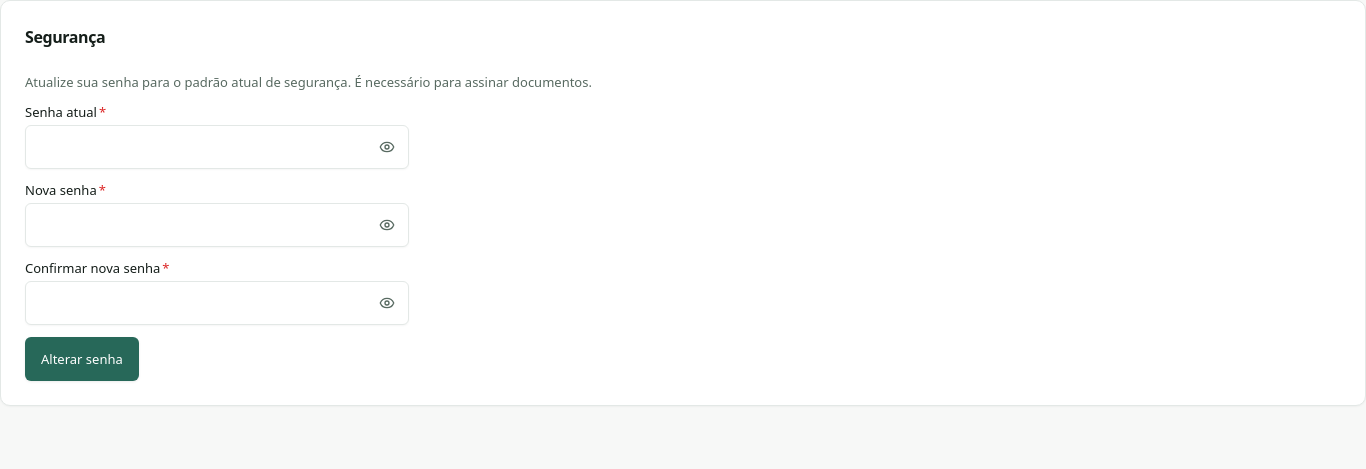
Test: TrocarSenhaCard › erro do backend (senha atual incorreta) renderiza alerta
The image size is (1366, 469).
Step 1. Type "errada" into the password field labelled "Senha atual*" → (217, 147), box [25,125,409,169]
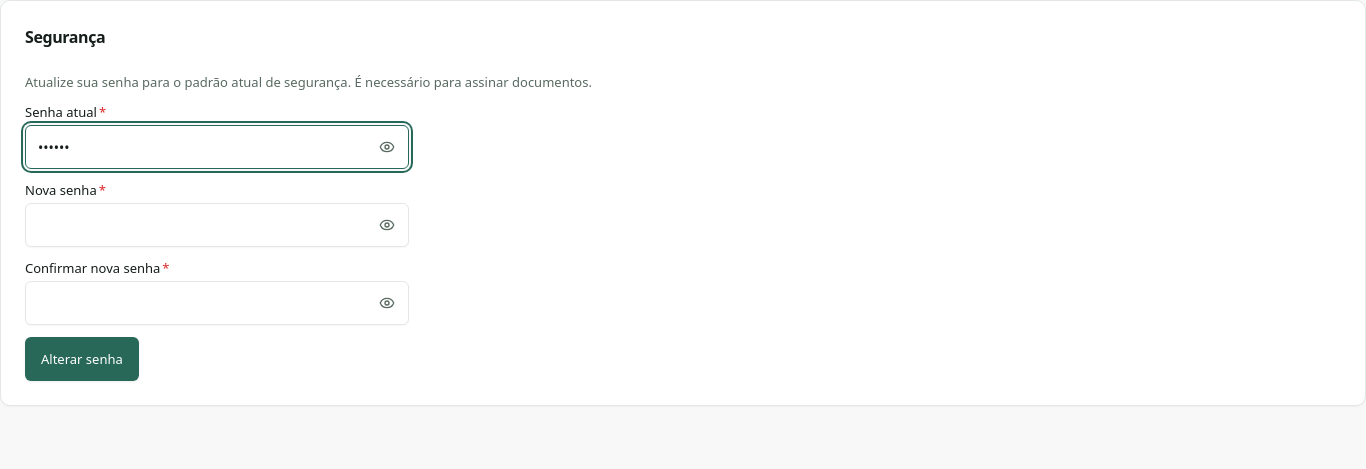
Step 2. Type "nova-senha-1" into the password field labelled "Nova senha*" → (217, 225), box [25,203,409,247]
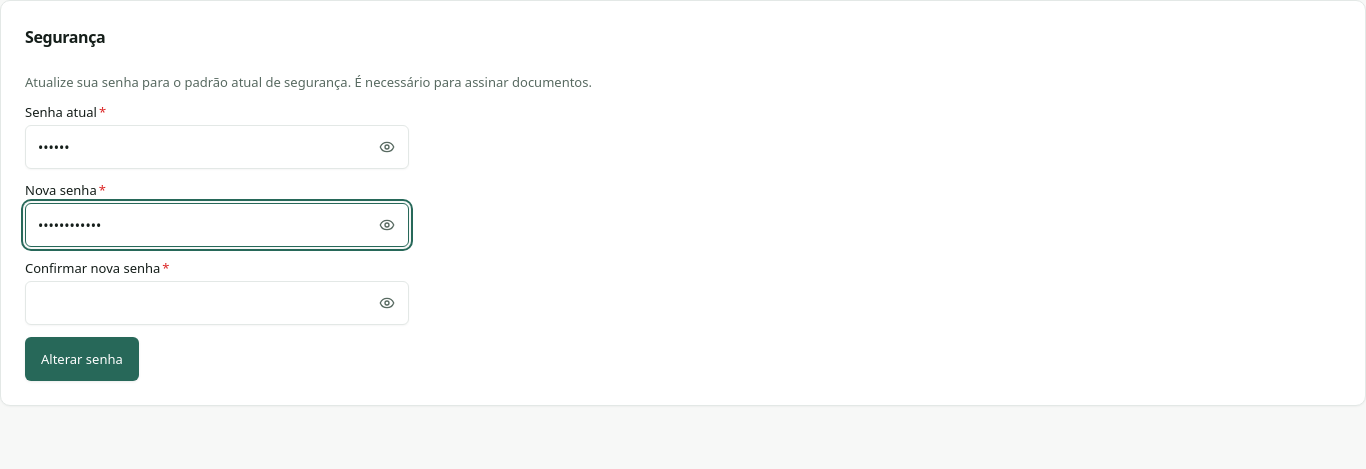
Step 3. Type "nova-senha-1" into the password field labelled "Confirmar nova senha*" → (217, 303), box [25,281,409,325]
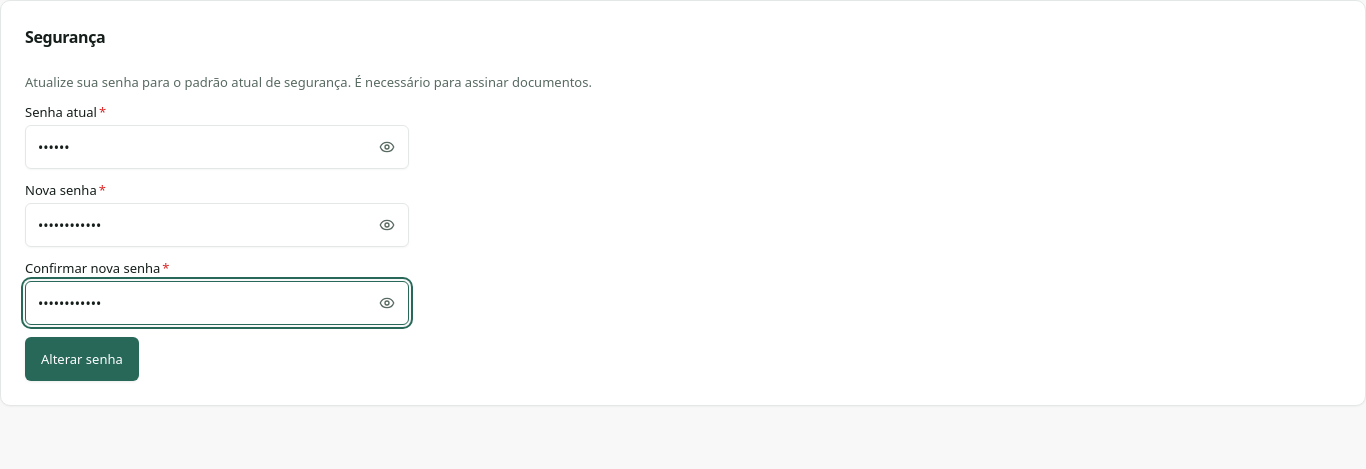
Step 4. Click the button "Alterar senha" → click(82, 359), box [25,337,139,381]
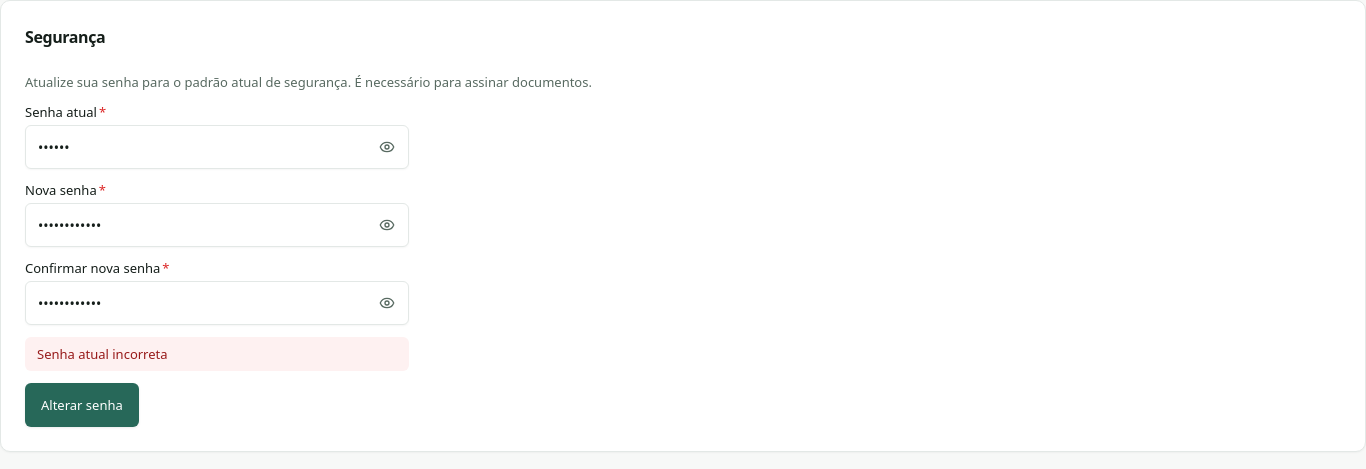
Expected: the message reads "Senha atual incorreta", [37,345,168,363]
